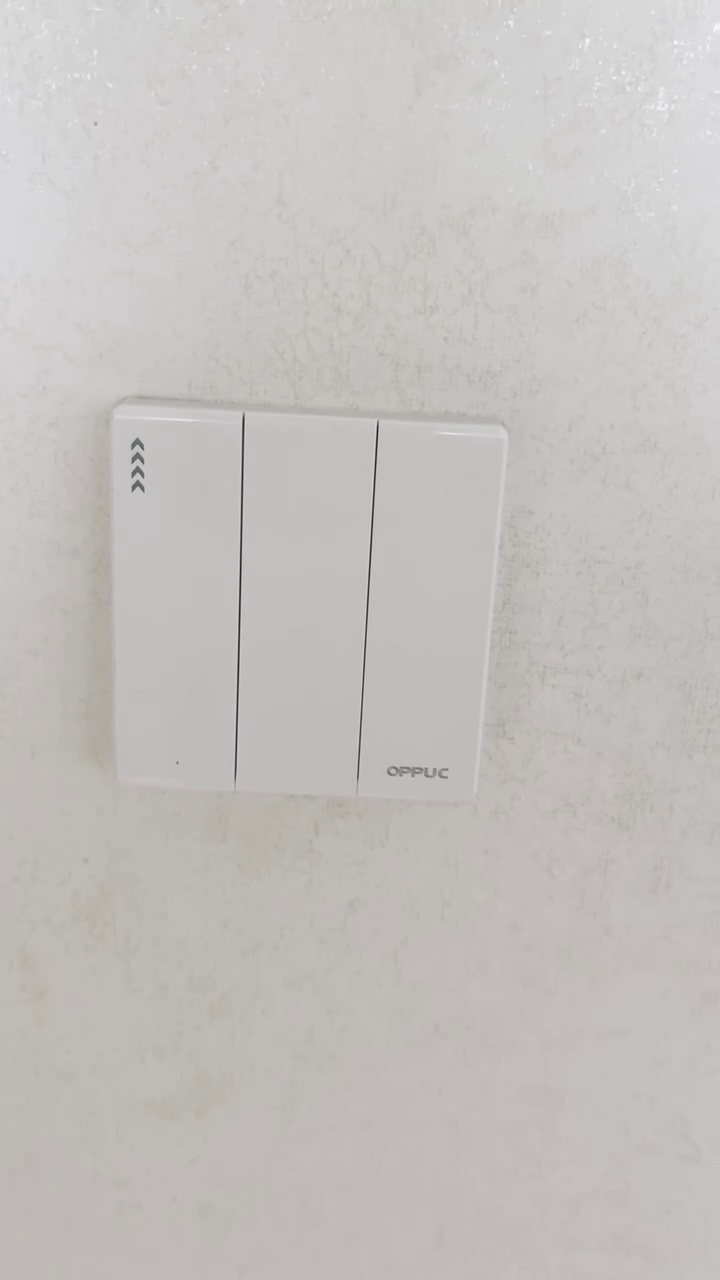button1: (237, 413, 376, 794), (360, 423, 496, 801), (115, 405, 241, 789)
